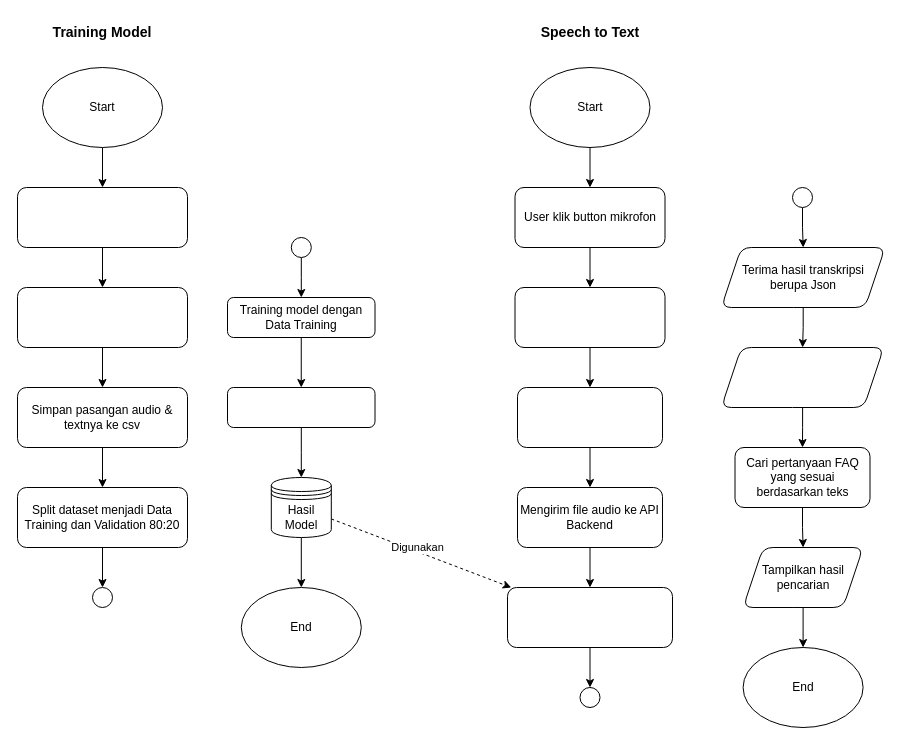
Some shapes in this 903 by 745 pixel diagram are drawn without their labels. Here are the shapes that lost their labels. From the top down, the centre of each, then its label:
point (102, 217): Ambil semua text pertanyaan dari FAQ Salaman
point (102, 317): Rekam tiap text menjadi audio dalam format .wav
point (589, 317): Aplikasi meminta izin mikrofon
point (802, 377): Menampilkan teks hasil transkripsi
point (300, 407): Evaluasi model dengan Data Validation
point (589, 417): User berhenti merekam
point (589, 617): Model memproses audio & mengirim balik hasilnya ke aplikasi
